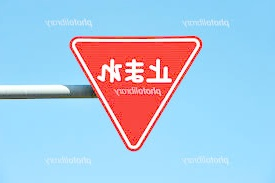Regulatory_sign_triangle: (65, 32, 214, 150)
